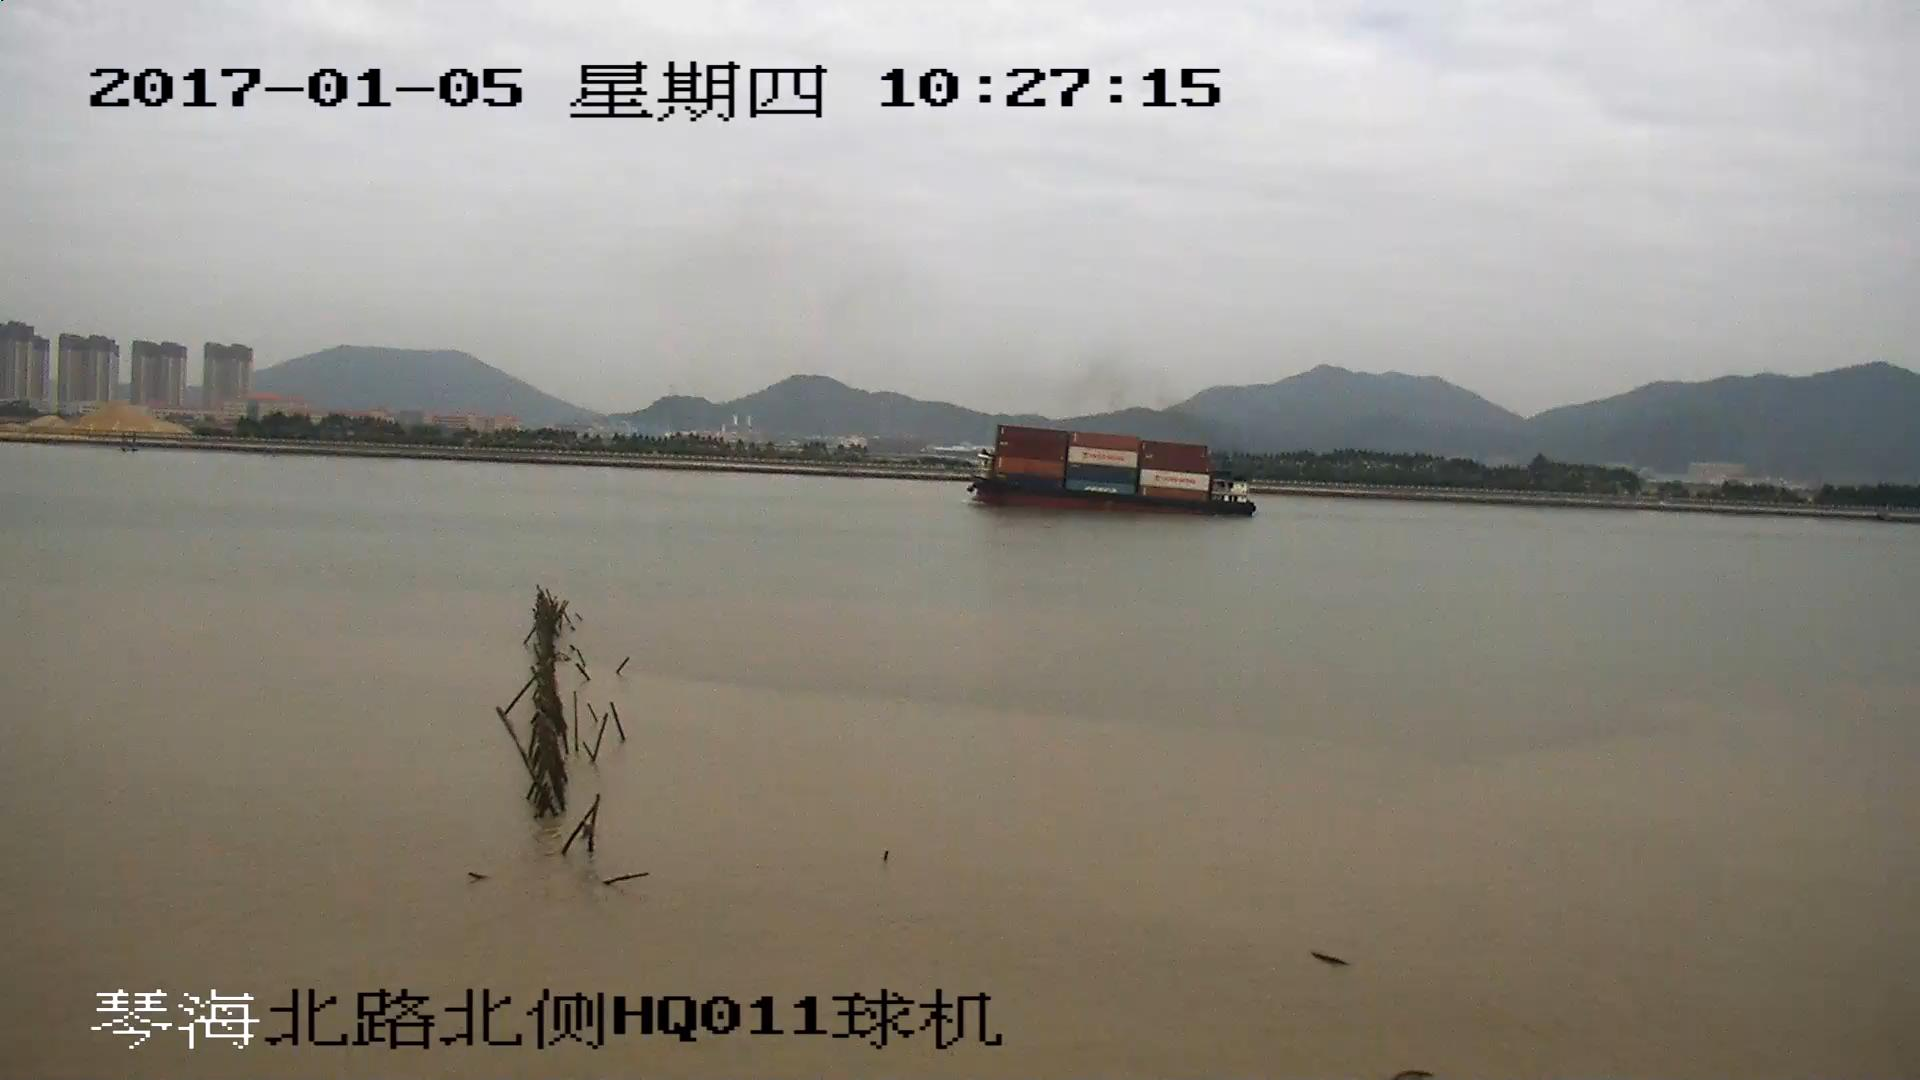container ship: (961, 429, 1249, 521)
